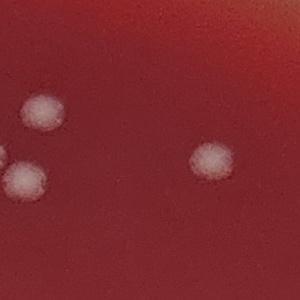colony: (180, 137, 247, 191), (0, 159, 59, 208), (15, 90, 72, 138), (0, 141, 16, 183)
